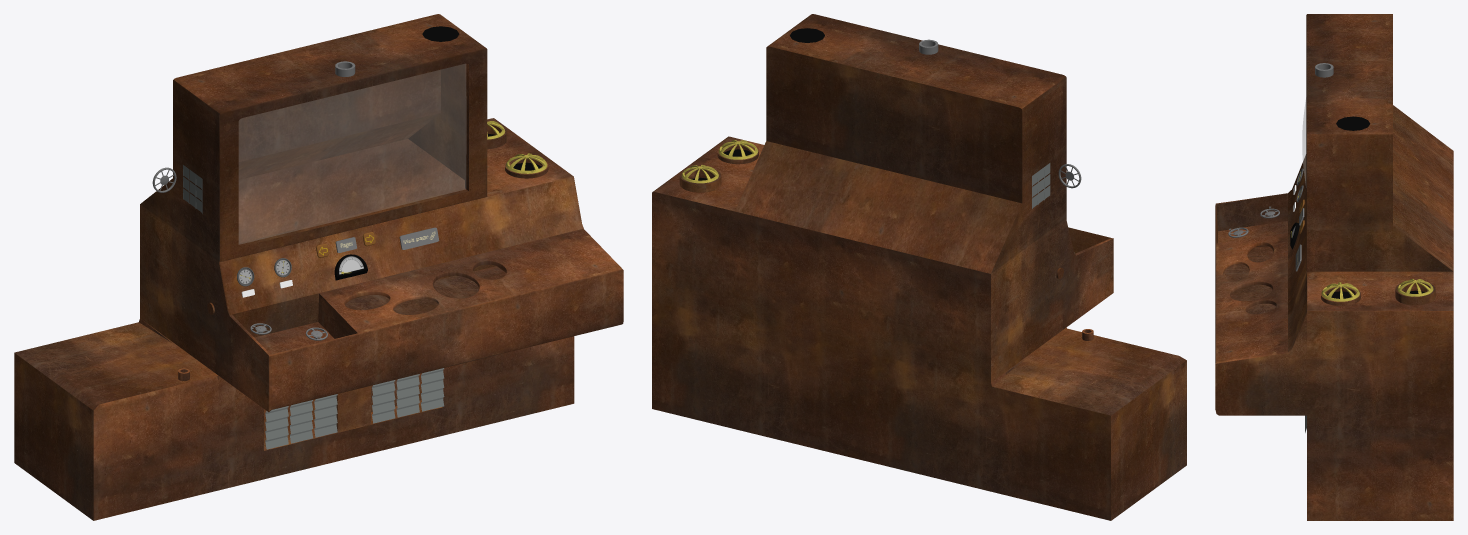
The model's file is computer.glb.
3 views of the same model, side by side, from view 1: azimuth 30°, elevation 25°; view 2: azimuth 150°, elevation 25°; view 3: azimuth 270°, elevation 25° (orthographic). The views are drawn at different scales.
Visible parts, largest first — view 1: Body, screen, vents-bottom, vents-side; view 2: Body, vents-side; view 3: Body, blacks, cage-right, cage-right.001.
Boxes of the visible parts, box(x1,y1,x2,y2) form: Body: box(14, 14, 623, 520); screen: box(239, 64, 466, 244); vents-bottom: box(265, 368, 444, 449); vents-side: box(183, 165, 202, 213); Body: box(652, 14, 1186, 520); vents-side: box(1032, 163, 1050, 208); Body: box(1215, 14, 1453, 520); blacks: box(1327, 116, 1425, 298); cage-right: box(1321, 282, 1359, 301); cage-right.001: box(1397, 279, 1433, 296).
Size of the model in its own units: 3.15 by 2.41 by 1.46.
13 materials, 8 textured.
